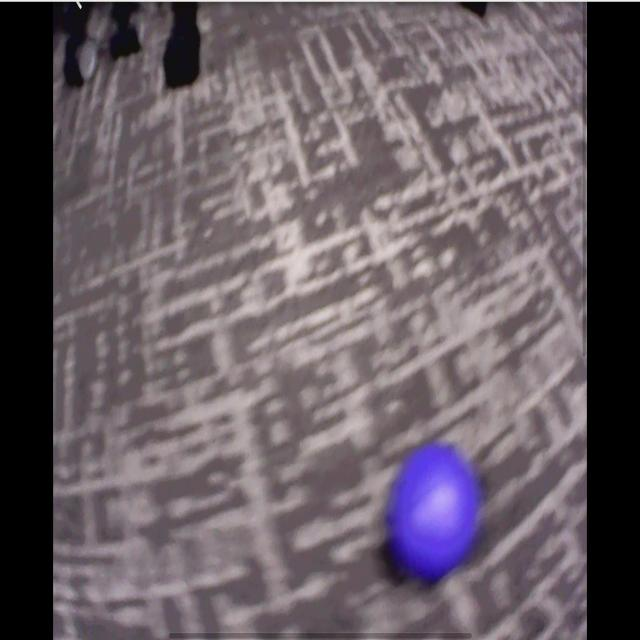ball: (391, 444, 482, 578)
